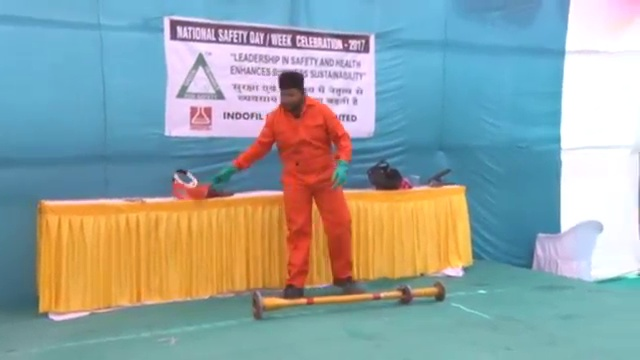helmet_off: (276, 69, 306, 108)
person: (232, 70, 367, 301)
